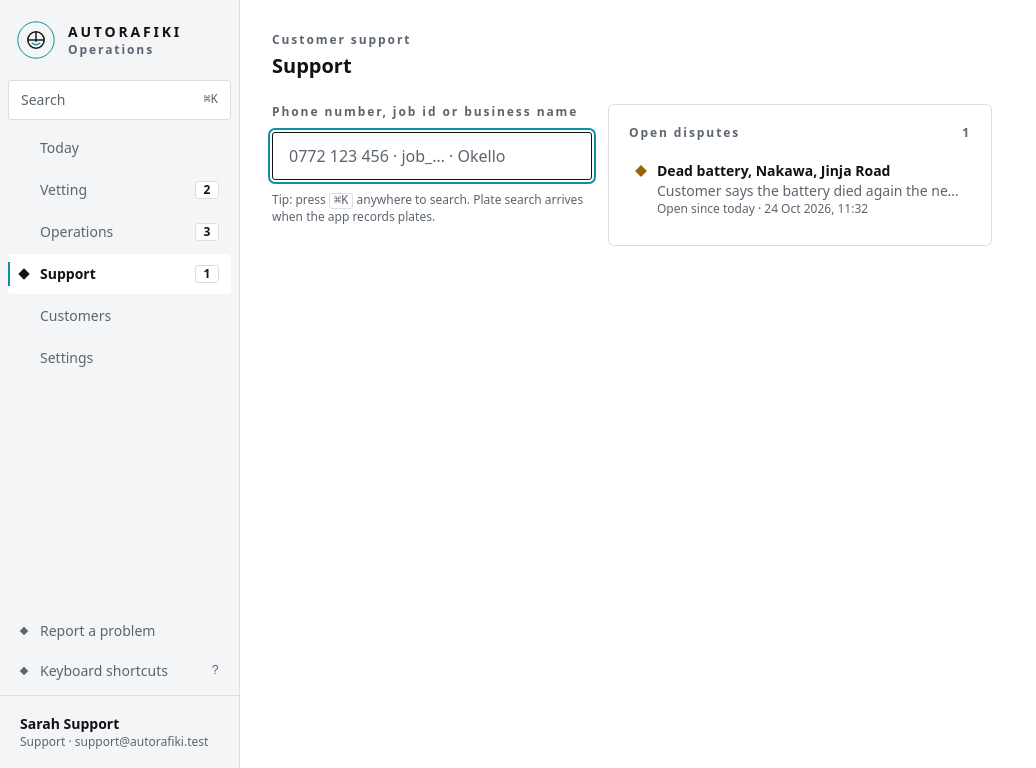
Test: support search › says so when nothing matches
The image size is (1036, 768).
Step 1. Type "zzzz" into the search field labelled "Phone number, job id or business name" → (432, 156), box top-left (272, 132), bottom-right (592, 180)
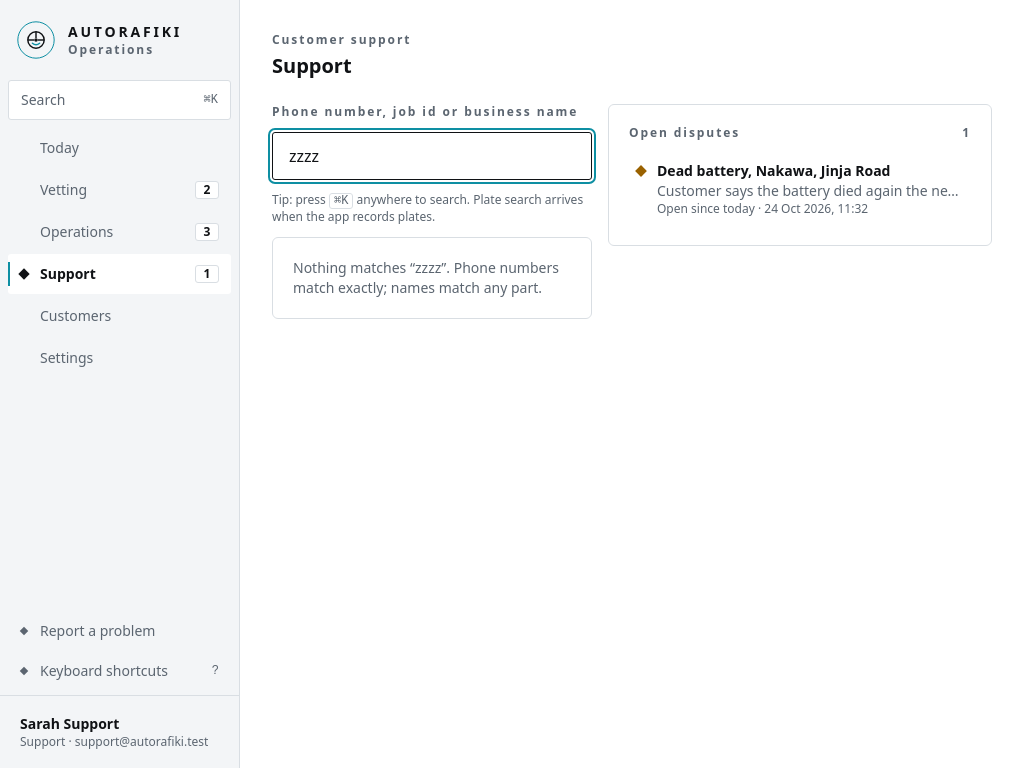
Expected: the text "Nothing matches “zzzz”" is shown, top-left (272, 237), bottom-right (592, 319)
